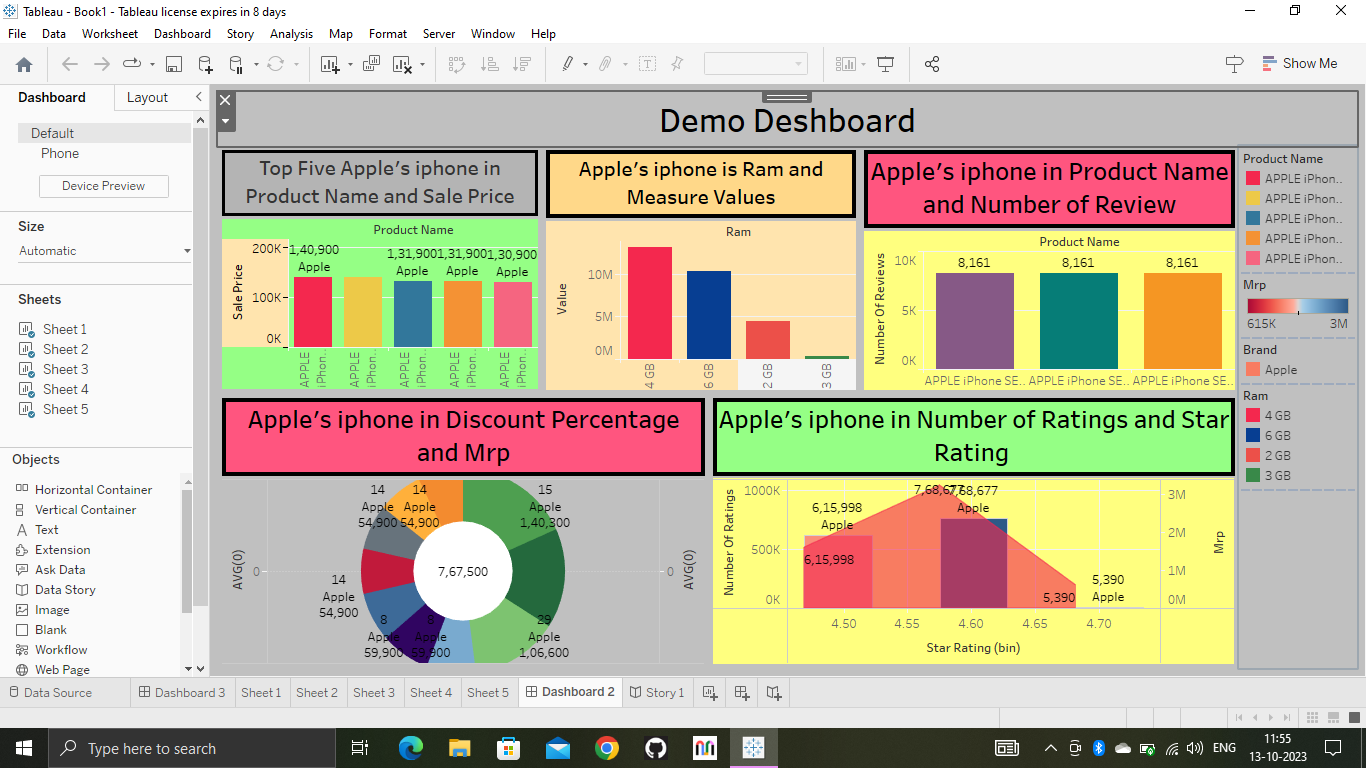

The dashboard page shown, as its layout file describes it:
{"tool":"tableau","page":{"name":"Dashboard 2","canvas":[1000,1000],"units":"permille","ordinal":0},"visuals":[{"type":"text","box":[6.9,13.5,986.1,91.2]},{"type":"worksheet","title":"Sheet 1","mark":"Automatic","rows":["Sale Price"],"cols":["Product Name"],"box":[6.9,104.7,280.9,418.1]},{"type":"worksheet","title":"Sheet 2","mark":"Automatic","cols":["Ram"],"box":[287.8,104.7,274.9,418.1]},{"type":"worksheet","title":"Sheet 5","mark":"Automatic","rows":["Number Of Reviews"],"cols":["Product Name"],"box":[562.8,104.7,328.2,418.1]},{"type":"legend","title":"Sheet 1","param":"[federated.1hvaf3400we9i112ibe6h10kigdb].[none:Product Name:nk]","box":[890.9,104.7,102.2,212.8]},{"type":"legend","title":"Sheet 4","param":"[federated.1hvaf3400we9i112ibe6h10kigdb].[sum:Mrp:qk]","box":[890.9,317.6,102.2,109.8]},{"type":"legend","title":"Sheet 4","param":"[federated.1hvaf3400we9i112ibe6h10kigdb].[none:Brand:nk]","box":[890.9,427.3,102.2,77.7]},{"type":"legend","title":"Sheet 2","param":"[federated.1hvaf3400we9i112ibe6h10kigdb].[none:Ram:nk]","box":[890.9,505,102.2,179.1]},{"type":"worksheet","title":"Sheet 3","mark":"Pie","rows":["Calculation_410390525403103242","Calculation_410390525403152396"],"box":[6.9,522.9,425.1,463.6]},{"type":"worksheet","title":"Sheet 4","mark":"Bar","rows":["Number Of Ratings","Mrp"],"cols":["Star Rating (bin)"],"box":[432,522.9,458.9,463.6]}]}

Visuals, with their boxes on the dashboard's canvas, which has no fixed pixel size, in thousandths of its width and height (x1, y1, x2, y2). These are canvas units, not pixel positions in the 1366x768 screenshot, which may show the page scaled, cropped or inside an application window:
text: box(7, 14, 993, 105)
"Sheet 1" worksheet: box(7, 105, 288, 523)
"Sheet 2" worksheet: box(288, 105, 563, 523)
"Sheet 5" worksheet: box(563, 105, 891, 523)
"Sheet 1" legend: box(891, 105, 993, 318)
"Sheet 4" legend: box(891, 318, 993, 427)
"Sheet 4" legend: box(891, 427, 993, 505)
"Sheet 2" legend: box(891, 505, 993, 684)
"Sheet 3" worksheet (Pie marks): box(7, 523, 432, 986)
"Sheet 4" worksheet (Bar marks): box(432, 523, 891, 986)
